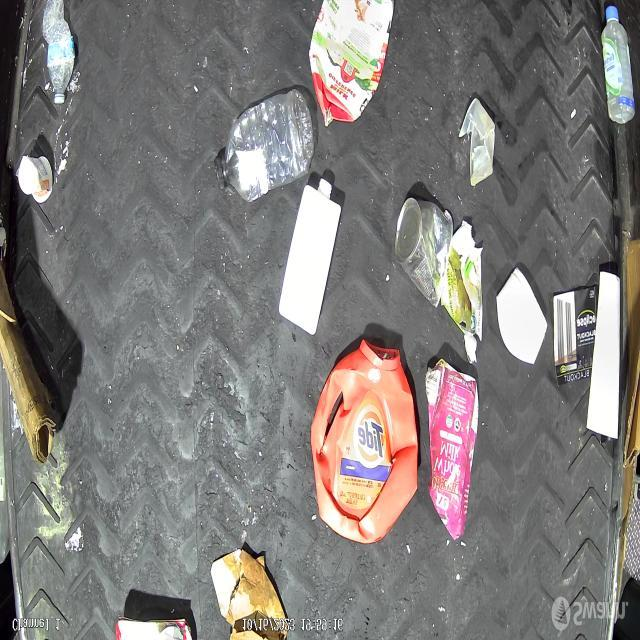can: (391, 182, 457, 316)
non_white_jug: (308, 334, 426, 544)
plastic_bottle: (209, 84, 321, 218), (35, 0, 81, 116), (602, 1, 640, 132)
